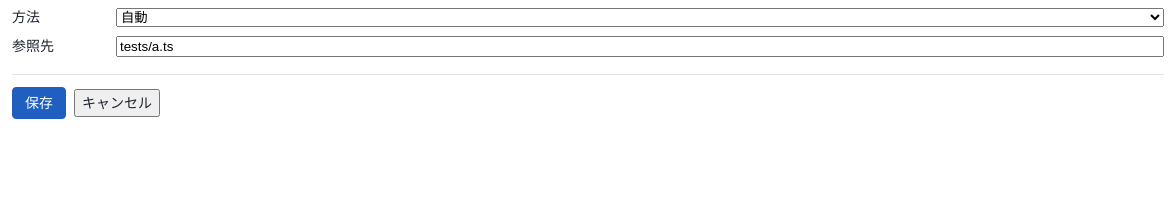
it: VerificationEditor › shows the core's refusal as it is and stays open
Step 1. Click the button "保存" → (39, 103), box [12,87,66,119]
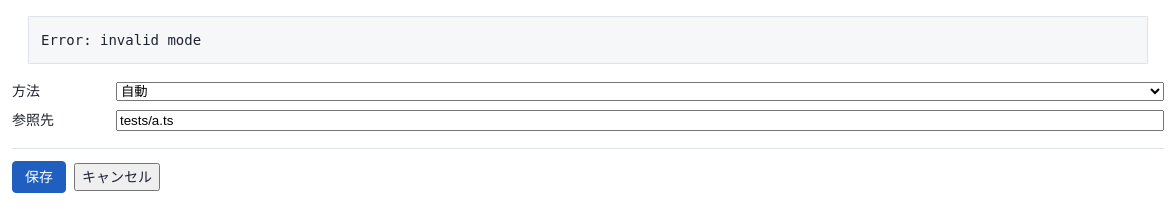
Check: the message shows "invalid mode", box [41,32,201,48]
